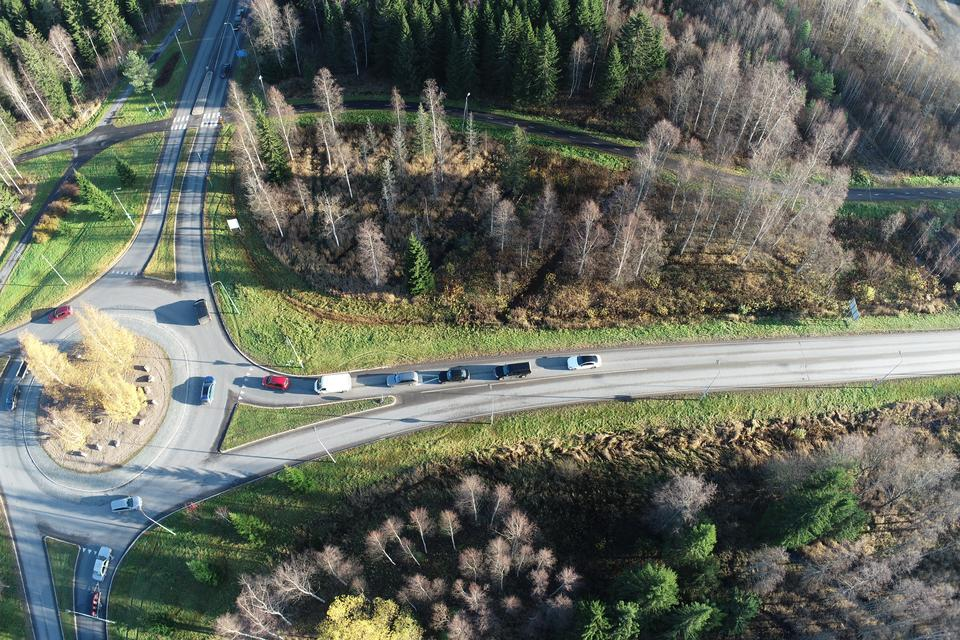intersection: (147, 93, 248, 140)
roundabout: (0, 243, 326, 589)
